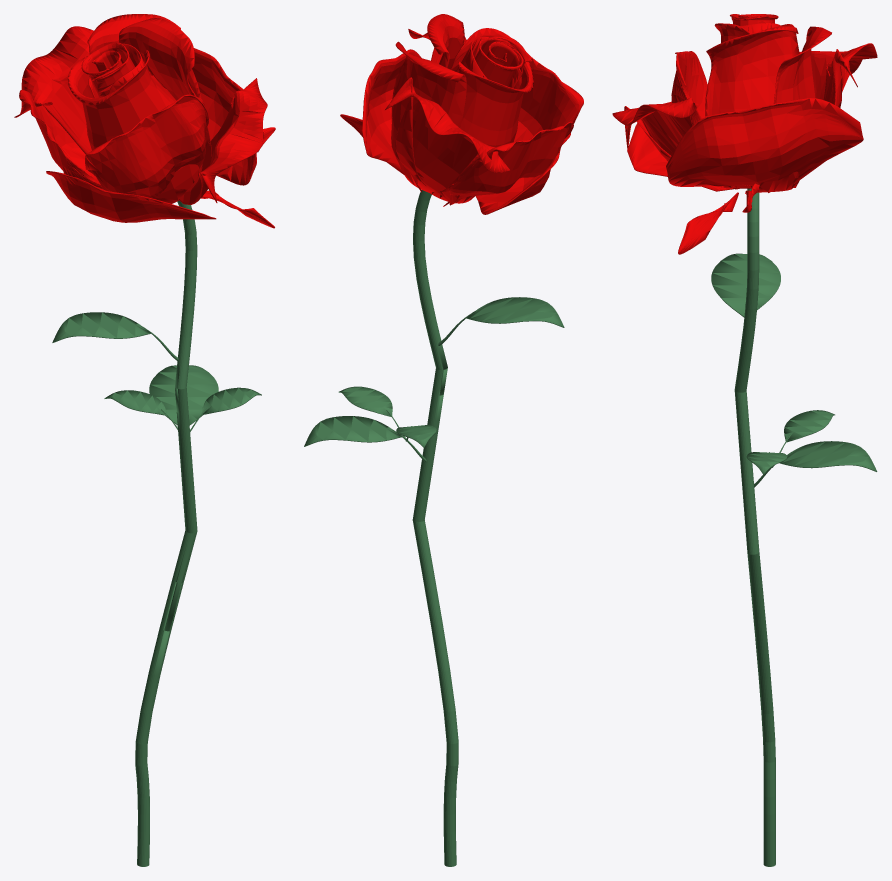
File: rose.rouge.fbx
The picture shows the model from 3 angles, left to right: view 1: azimuth 30°, elevation 25°; view 2: azimuth 150°, elevation 25°; view 3: azimuth 270°, elevation 25°; orthographic projection.
Parts seen in each view (by area): view 1: Loft01.001, Loft01; view 2: Loft01.001, Loft01; view 3: Loft01.001, Loft01.
Boxes of the visible parts, left/top/right/bottom form: Loft01.001: left=14, top=14, right=275, bottom=228; Loft01: left=52, top=200, right=261, bottom=866; Loft01.001: left=340, top=14, right=583, bottom=214; Loft01: left=304, top=190, right=564, bottom=866; Loft01.001: left=612, top=14, right=877, bottom=254; Loft01: left=711, top=188, right=877, bottom=866.
Size of the model in its own units: 144 by 513 by 146.
